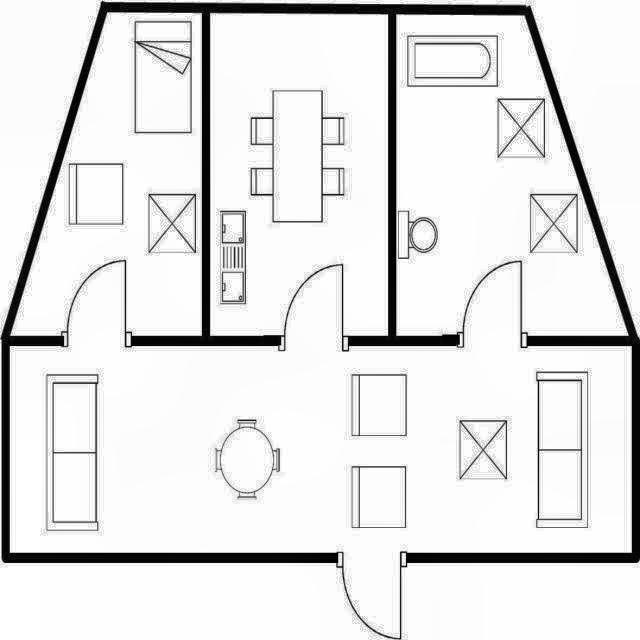room: (10, 346, 632, 553), (396, 14, 629, 336), (10, 11, 205, 336), (210, 14, 388, 335)
